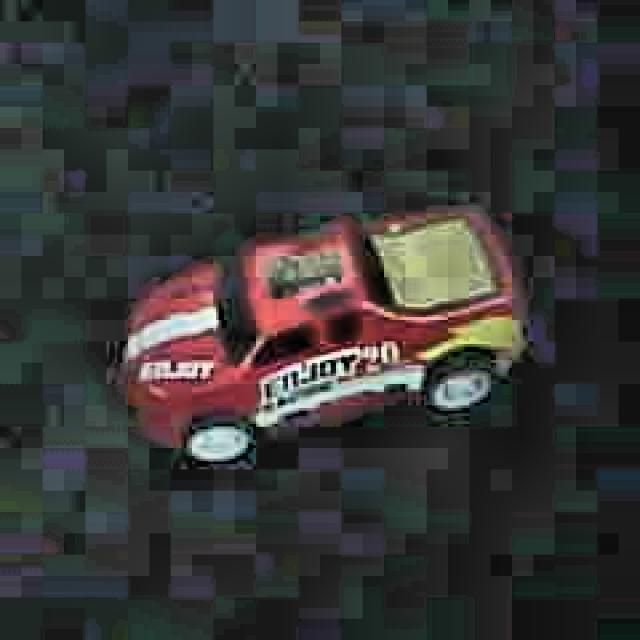car: (116, 200, 534, 478)
